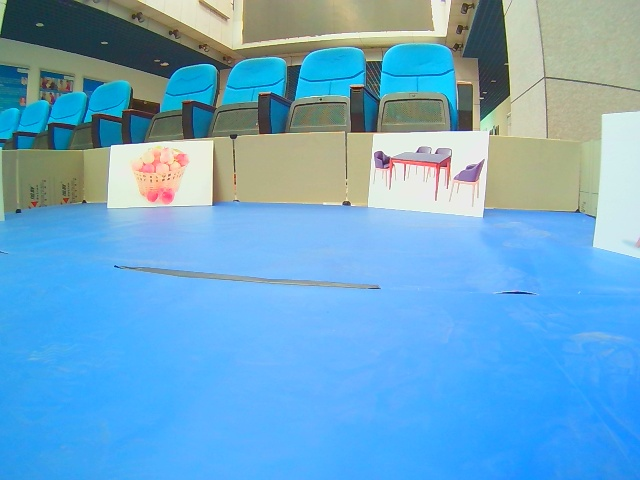food: (106, 141, 214, 208)
table: (369, 132, 489, 218)
